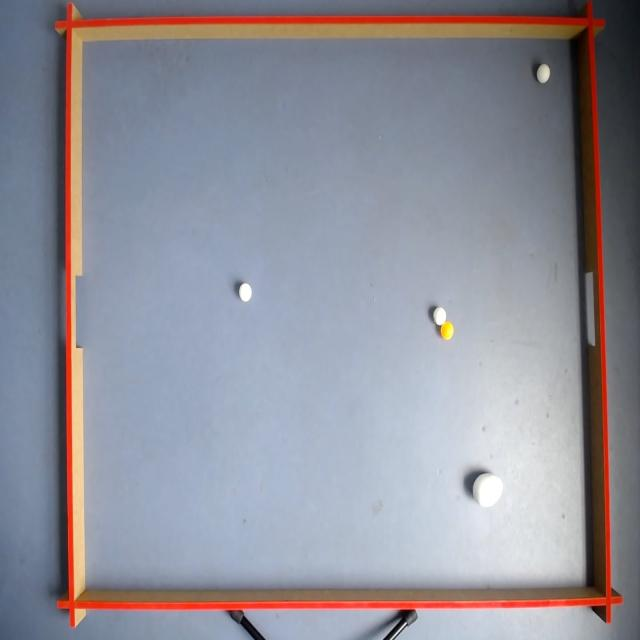egg: (471, 470, 506, 511)
orange_ball: (440, 321, 454, 342)
white_ball: (536, 61, 552, 86), (237, 280, 254, 303), (433, 305, 448, 329)
